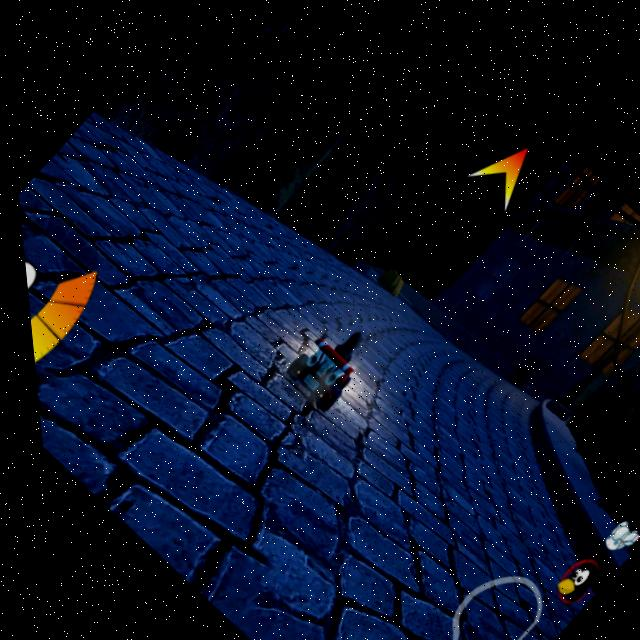player_kart: (262, 304, 379, 422)
track: (269, 345, 547, 619), (118, 173, 353, 410), (357, 273, 533, 442)
